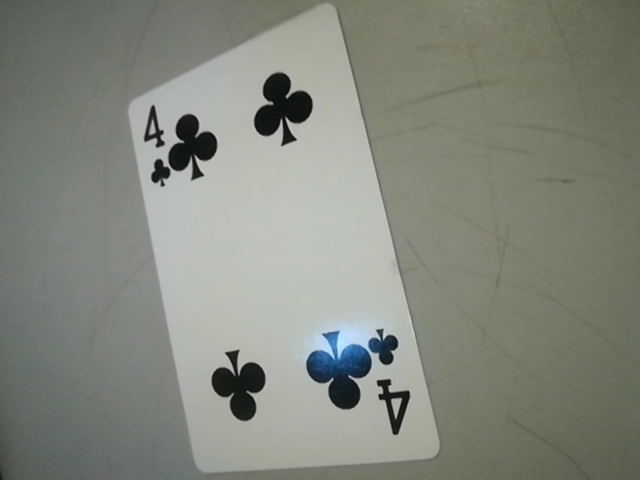mh 4: (365, 320, 425, 448)
